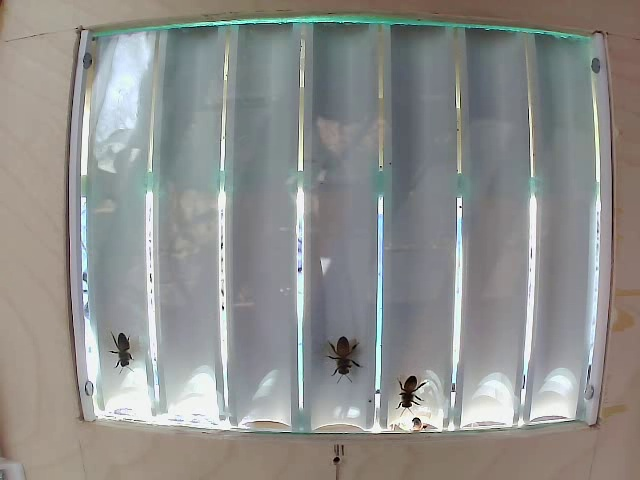bee: (330, 323, 368, 379), (386, 361, 428, 403), (103, 324, 138, 368)
